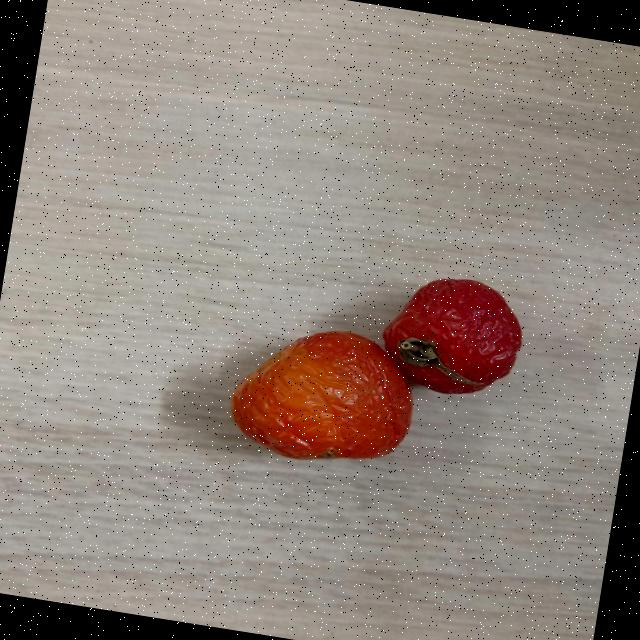overripe: (218, 314, 426, 480), (376, 265, 535, 406)
